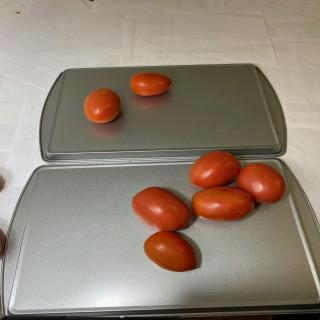Tomato: (131, 186, 191, 232), (192, 186, 254, 222), (143, 231, 197, 272), (236, 162, 286, 204), (189, 150, 241, 189), (84, 88, 121, 124), (130, 72, 172, 96)
